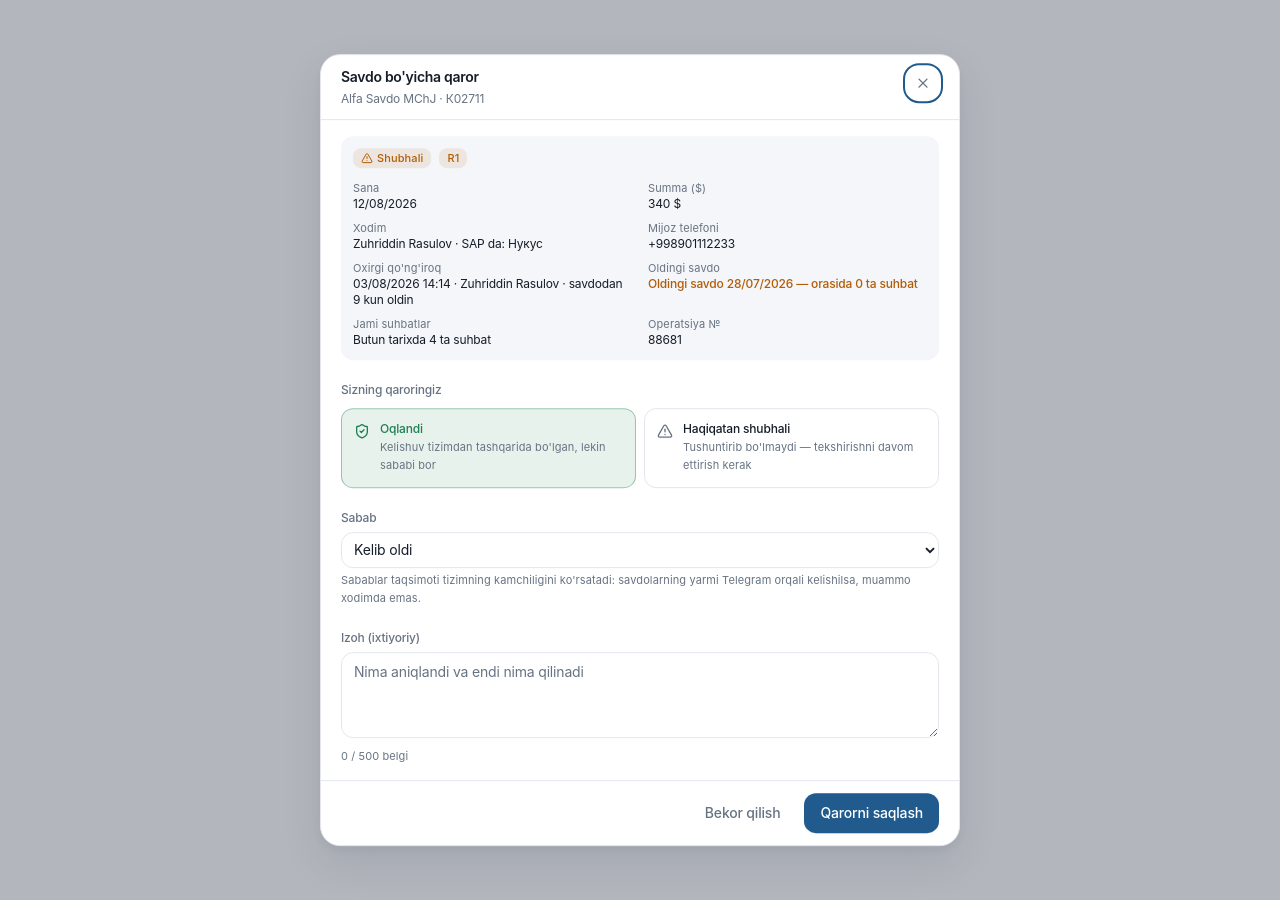
Test: when the server refuses › shows the failure and does not close the dialog
The width and height of the screenshot is (1280, 900).
Click the button "Qarorni saqlash".
click(872, 813)  # box [804,793,939,833]
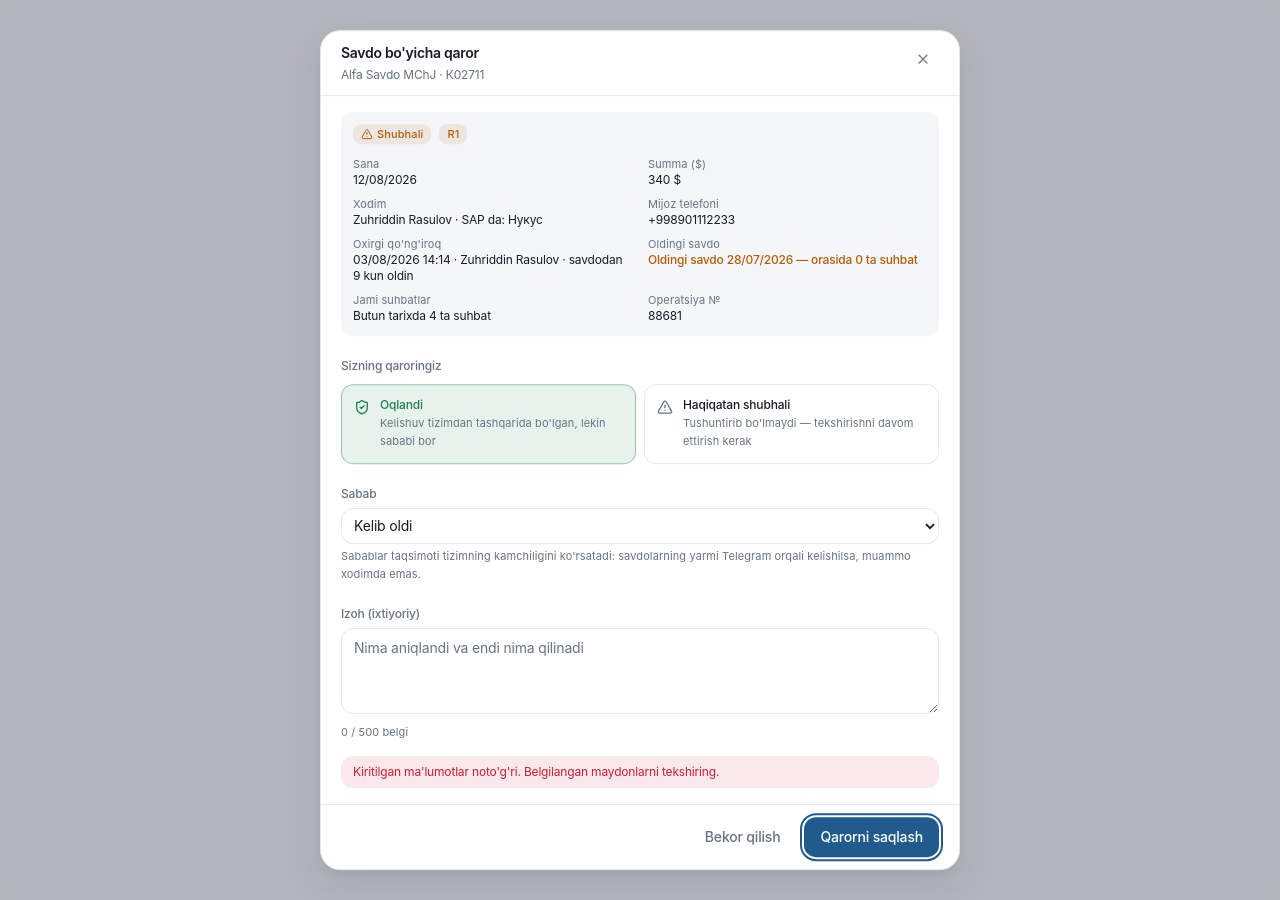
expect the message "Kiritilgan ma'lumotlar noto'g'ri. Belgilangan maydonlarni tekshiring." is shown: met, box [341,756,939,788]
